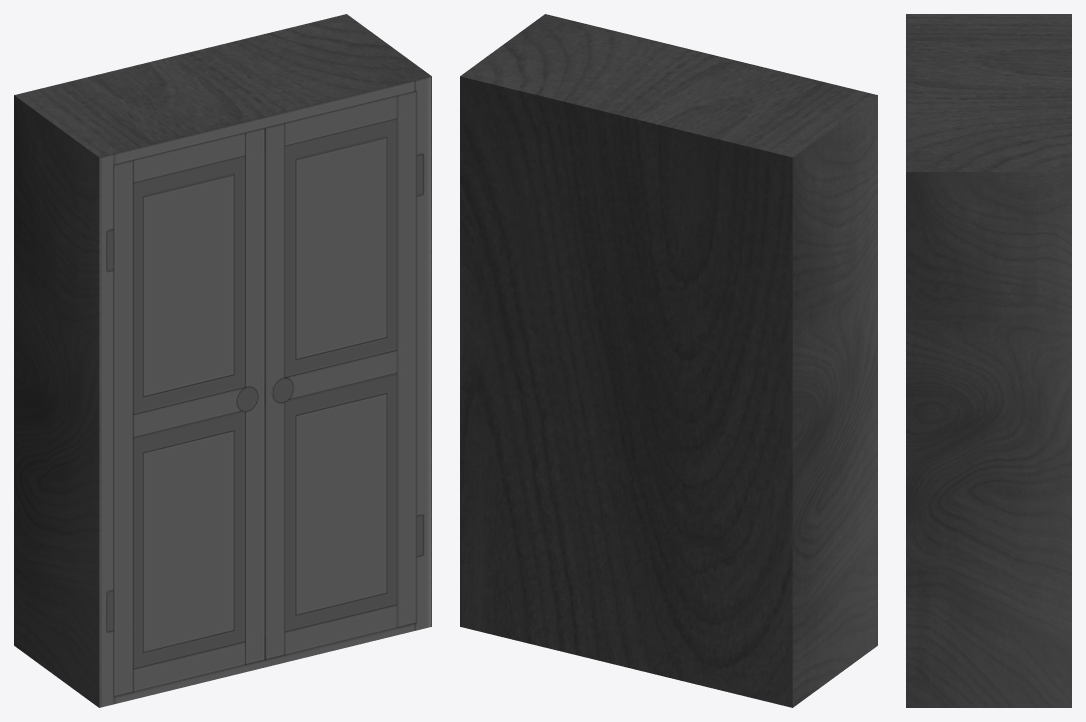
The model's file is Closet.fbx.
The picture shows the model from 3 angles, left to right: view 1: azimuth 30°, elevation 25°; view 2: azimuth 150°, elevation 25°; view 3: azimuth 270°, elevation 25°; orthographic projection. The views are drawn at different scales.
Visible parts, largest first — view 1: ClosetBody, DoorL, DoorR; view 2: ClosetBody; view 3: ClosetBody.
Boxes of the visible parts, bbox=[...] form: ClosetBody: bbox=[14, 14, 431, 707]; DoorL: bbox=[114, 128, 265, 696]; DoorR: bbox=[265, 91, 416, 659]; ClosetBody: bbox=[460, 14, 877, 707]; ClosetBody: bbox=[906, 14, 1071, 707].
Size of the model in its own units: 4.13 by 6.54 by 1.83.
